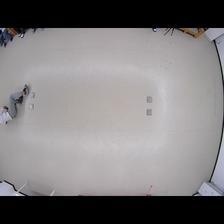fall: (1, 82, 29, 124)
